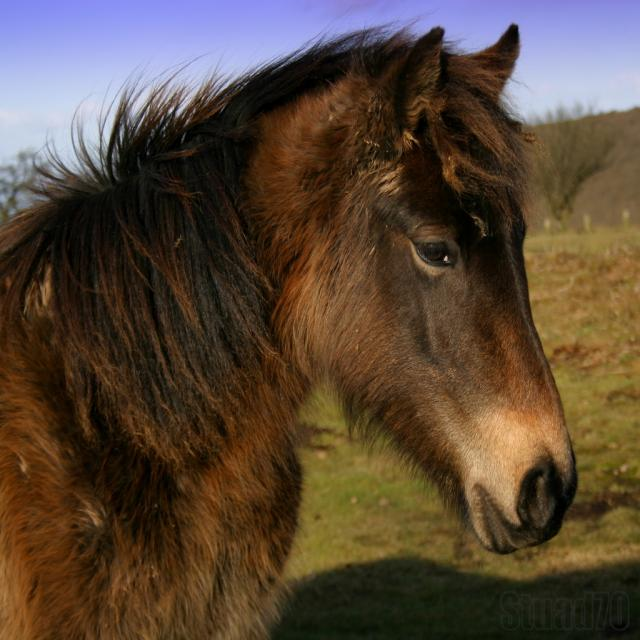Horse: (0, 0, 579, 640)
